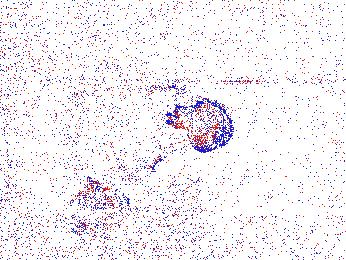flame jellyfish: (165, 97, 233, 152), (68, 177, 116, 227)
